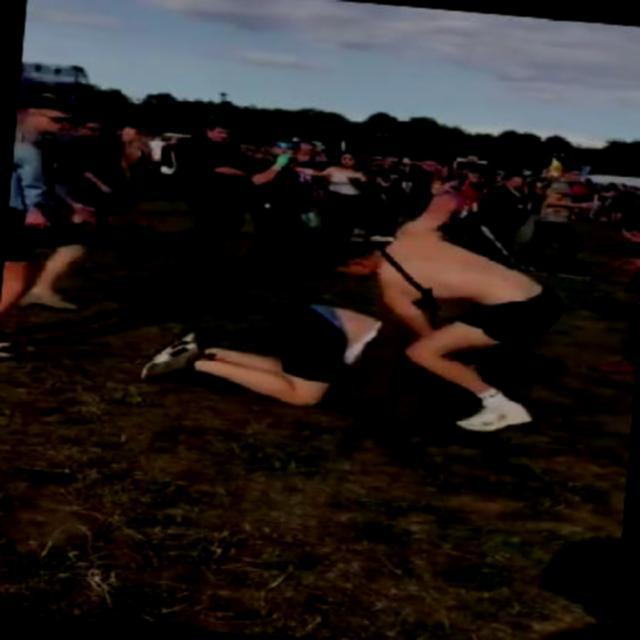fight: (128, 200, 562, 442)
